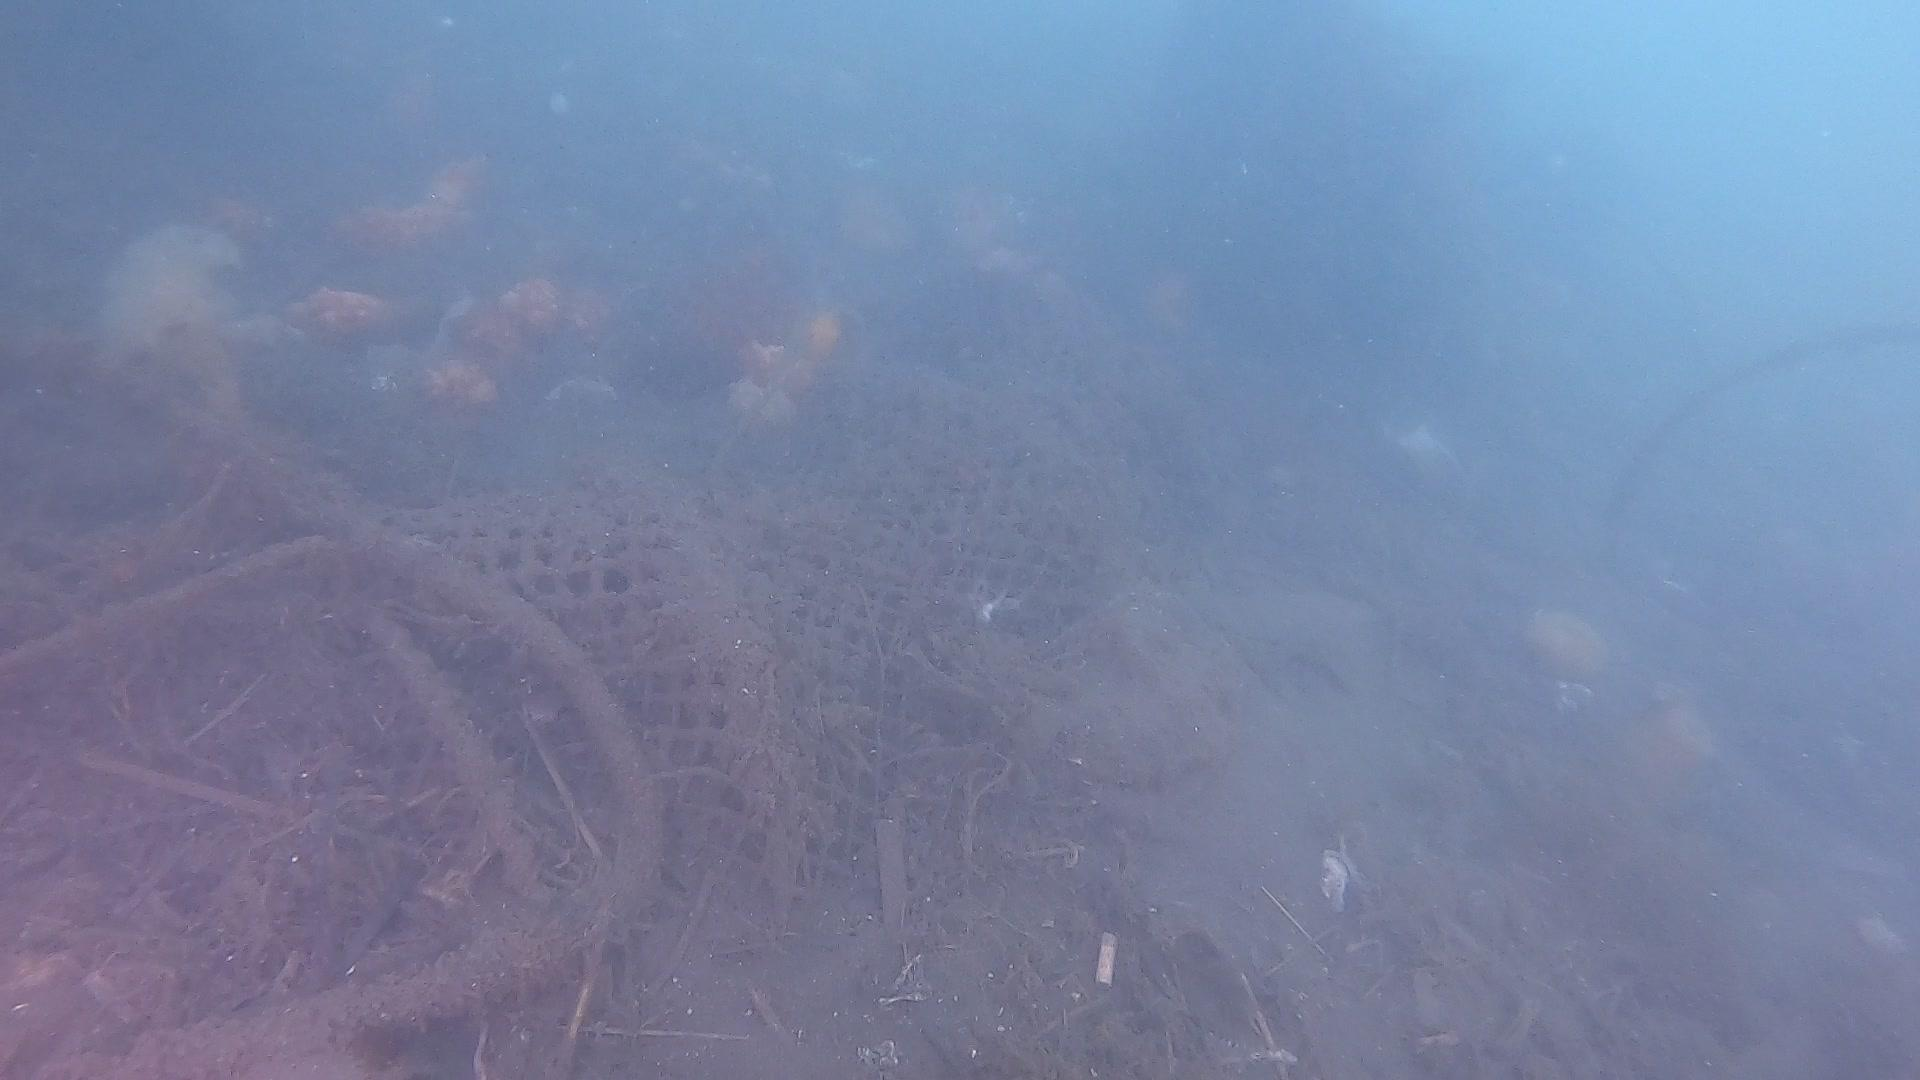rope: (86, 375, 665, 1080)
spring fish trap: (314, 438, 1135, 942)
